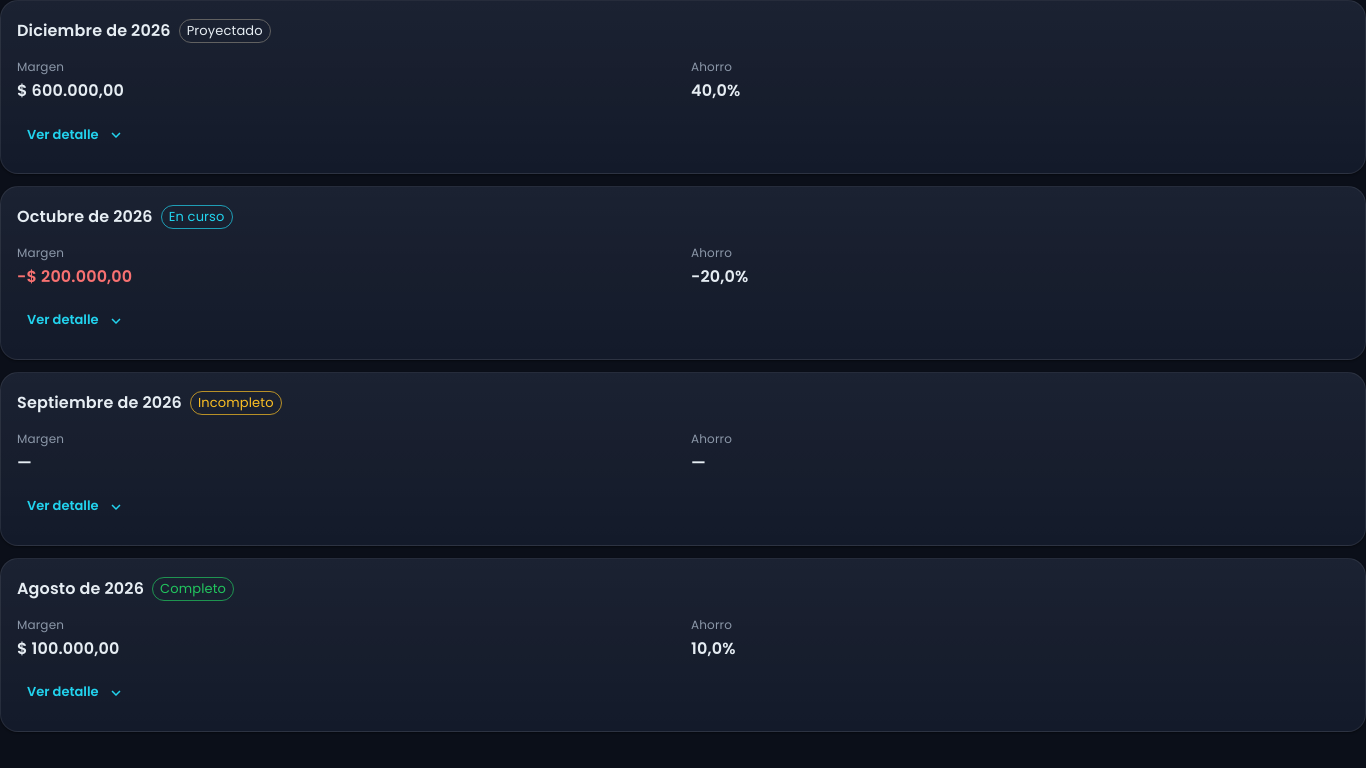
CashFlowCards › en el detalle muestra los servicios y las suscripciones
What coordinates should you click on to do the following:
click the button "Ver detalle" below "$ 100.000,00"
I would click on:
 (75, 693)
Its box is [9,671,141,715].
(page scrolled)
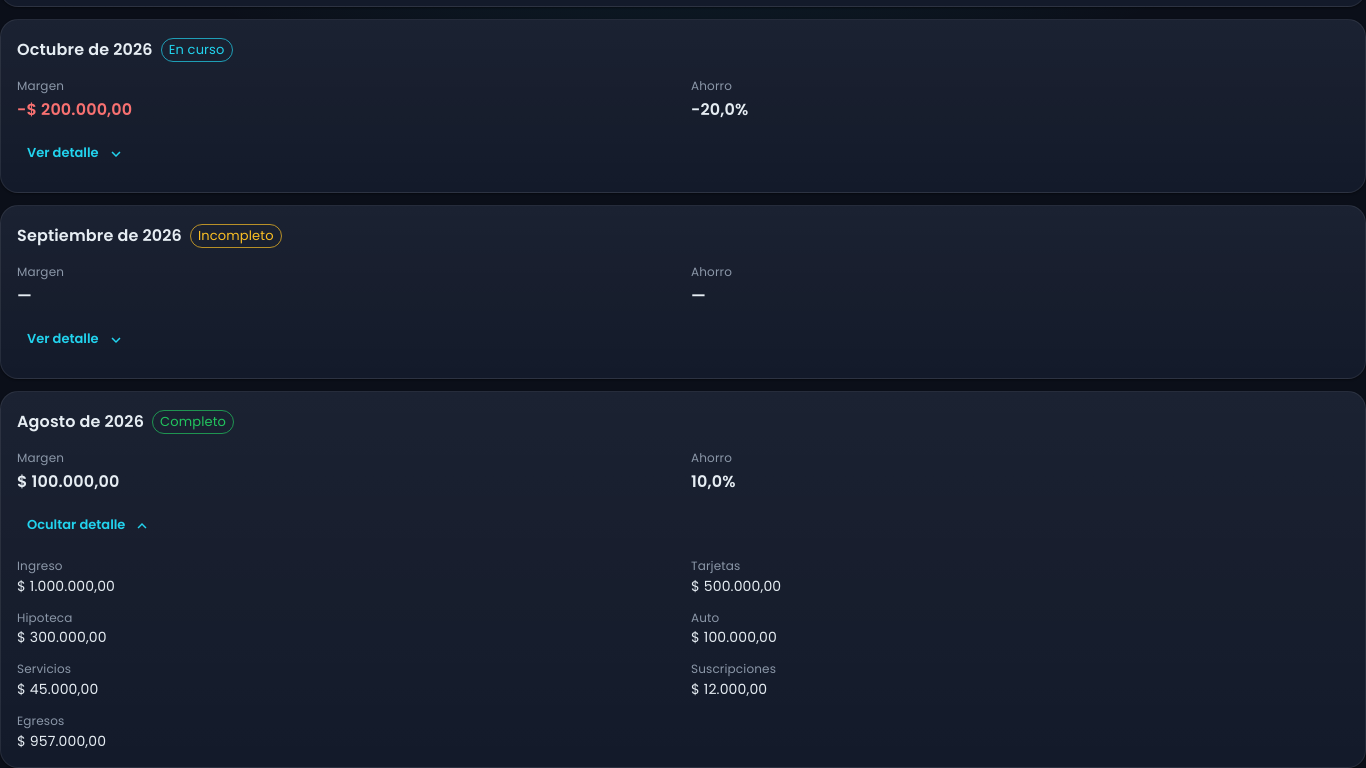
Expected: the text "Servicios" is shown, [17,660,71,678]
Expected: the text "Suscripciones" is shown, [691,660,776,678]
